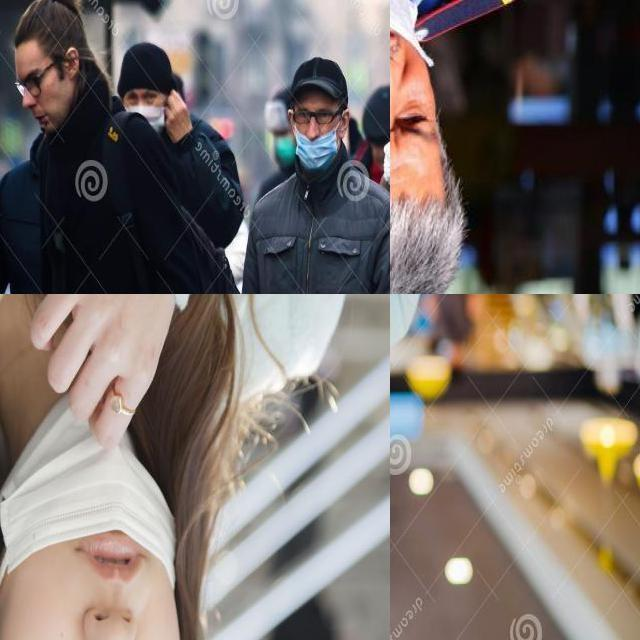hairnet: (0, 398, 181, 640), (389, 0, 443, 113), (293, 124, 340, 173)
